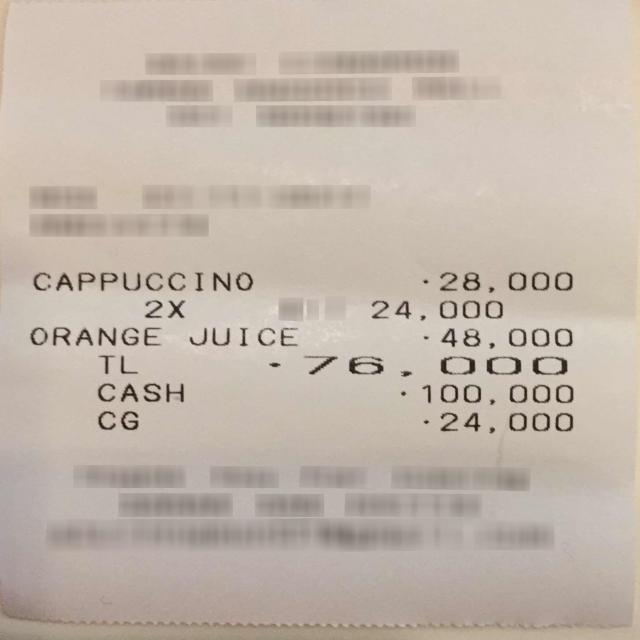text: (265, 352, 571, 377), (33, 271, 251, 290), (419, 410, 571, 434), (403, 382, 573, 402), (422, 271, 575, 293), (452, 324, 570, 350), (372, 299, 503, 320), (29, 327, 160, 345), (189, 327, 296, 346), (97, 384, 183, 402), (97, 410, 138, 430), (98, 355, 138, 375), (422, 325, 451, 350), (144, 300, 183, 318)
